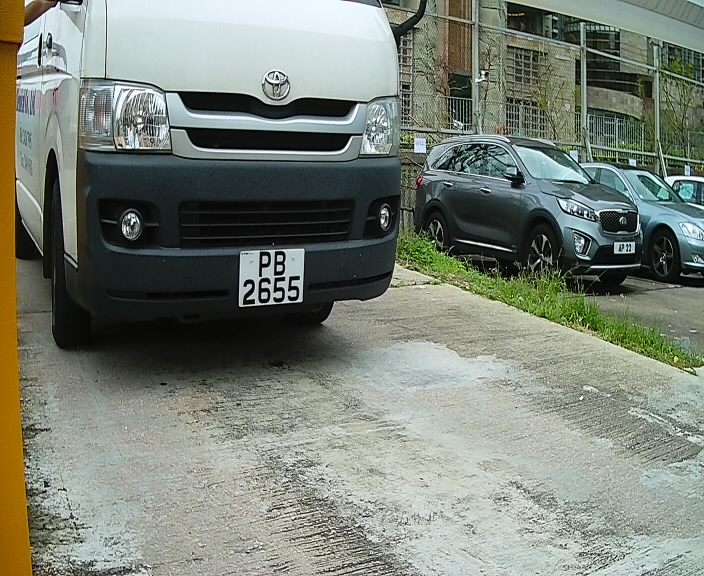Car: (30, 3, 413, 372)
License Plate: (236, 245, 313, 316)
